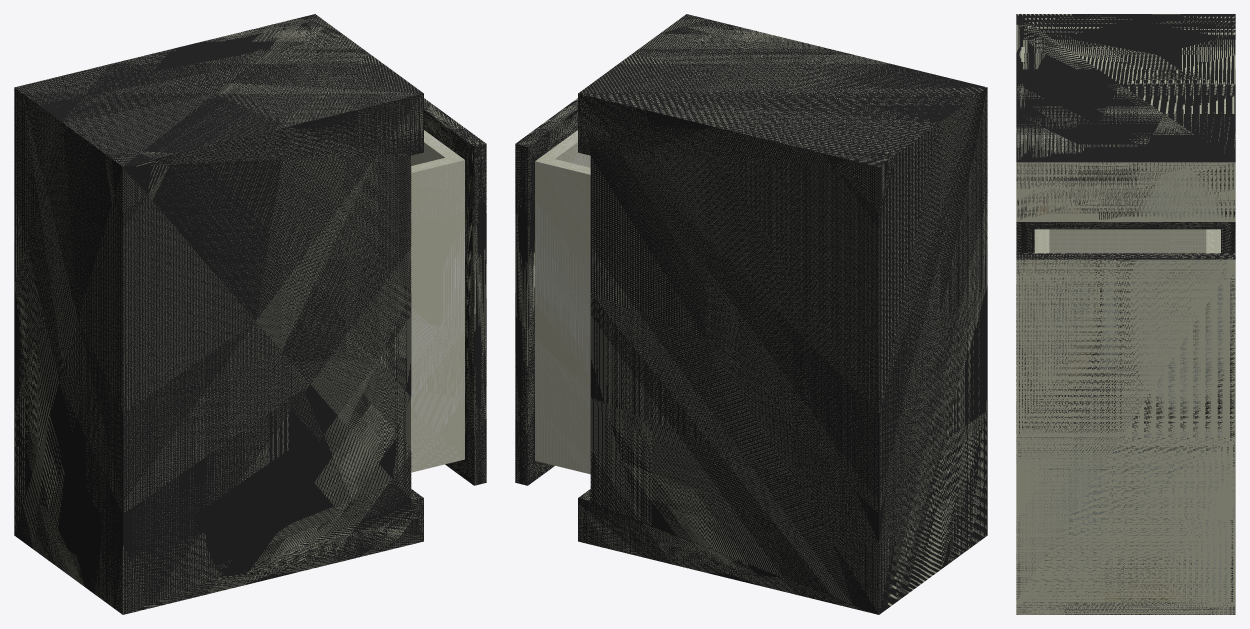
The picture shows the model from 3 angles, left to right: view 1: azimuth 30°, elevation 25°; view 2: azimuth 150°, elevation 25°; view 3: azimuth 270°, elevation 25°; orthographic projection.
Visible parts, largest first — view 1: mesh2_mesh2-geometry, mesh1_mesh1-geometry; view 2: mesh2_mesh2-geometry, mesh1_mesh1-geometry; view 3: mesh1_mesh1-geometry, mesh2_mesh2-geometry.
Part boxes in pixels (box(x1,y1,x2,y2)): mesh2_mesh2-geometry: box(14, 14, 423, 614); mesh1_mesh1-geometry: box(411, 98, 486, 485); mesh2_mesh2-geometry: box(578, 14, 987, 614); mesh1_mesh1-geometry: box(515, 98, 590, 485); mesh1_mesh1-geometry: box(1016, 229, 1235, 601); mesh2_mesh2-geometry: box(1016, 14, 1235, 614).
Bounding box in the file's own units: 0.614 × 0.7226 × 0.3176.
